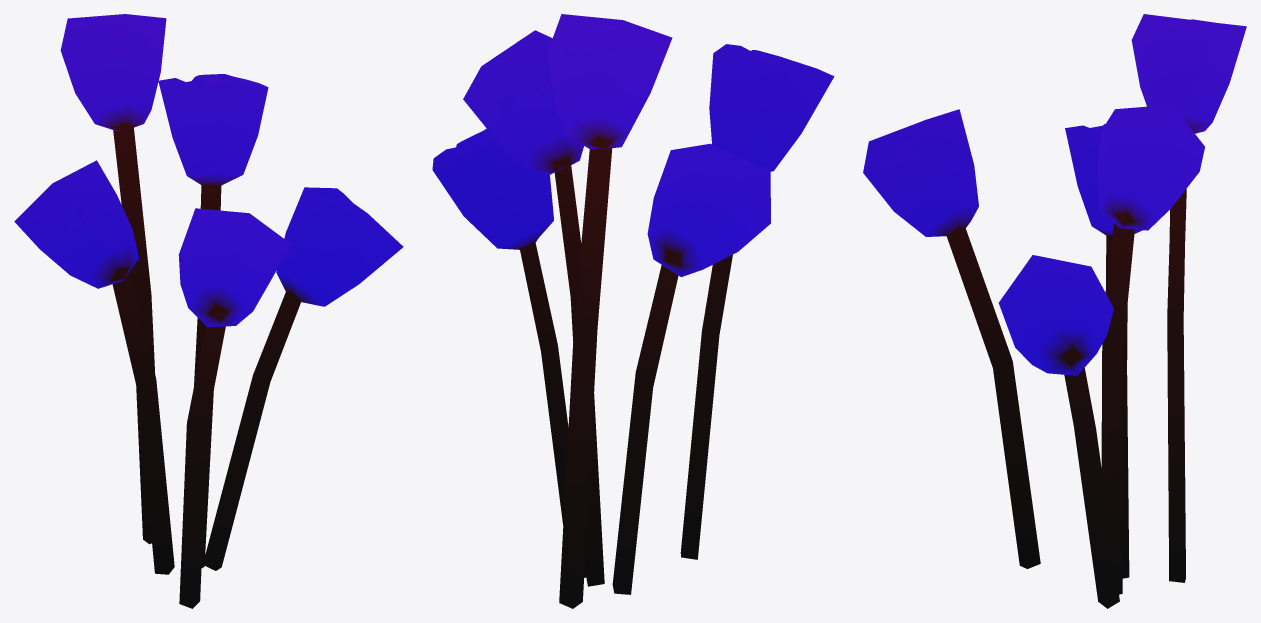
The model's file is SM_Env_Flowers_01.gltf.
3 renders of one model, left to right at view 1: azimuth 30°, elevation 25°; view 2: azimuth 150°, elevation 25°; view 3: azimuth 270°, elevation 25°, orthographic. The views are drawn at different scales.
Parts seen in each view (by area): view 1: SM_Env_Flowers_01_LOD0; view 2: SM_Env_Flowers_01_LOD0; view 3: SM_Env_Flowers_01_LOD0.
Part boxes in pixels (<box>): SM_Env_Flowers_01_LOD0: <box>14,14,403,608</box>; SM_Env_Flowers_01_LOD0: <box>432,14,834,608</box>; SM_Env_Flowers_01_LOD0: <box>863,14,1246,608</box>.
Size of the model in its own units: 0.556 by 0.8828 by 0.5576.
